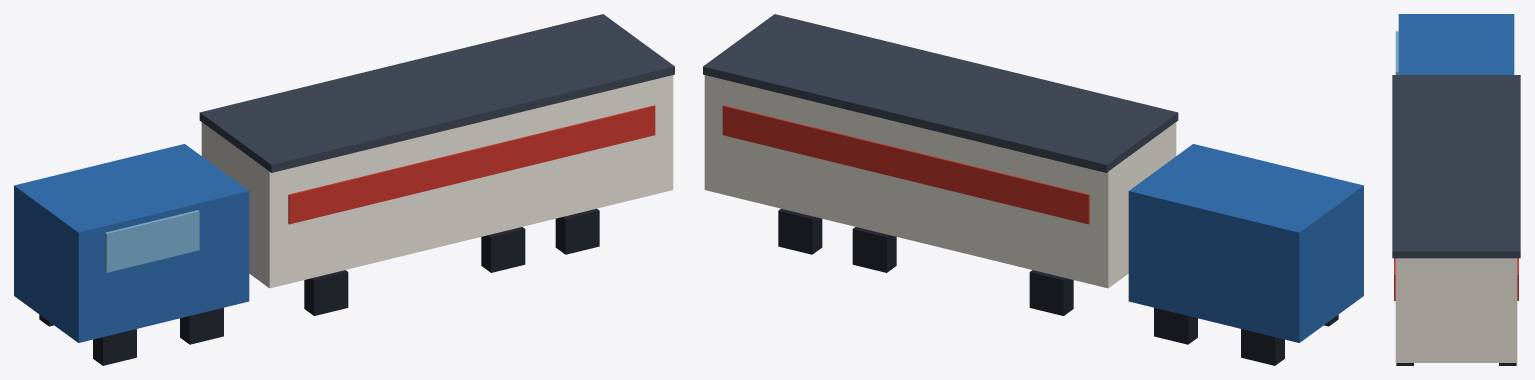
The model's file is truck.glb.
3 renders of one model, left to right at view 1: azimuth 30°, elevation 25°; view 2: azimuth 150°, elevation 25°; view 3: azimuth 270°, elevation 25°, orthographic. The views are drawn at different scales.
Parts seen in each view (by area): view 1: truck_white, truck_blue, truck_steelDark, truck_red, truck_black, truck_glass; view 2: truck_white, truck_blue, truck_steelDark, truck_red, truck_black; view 3: truck_steelDark, truck_white, truck_blue, truck_glass, truck_red.
Boxes of the visible parts, x1,y1,x2,y2 form: truck_white: (201,75,673,288); truck_blue: (14,144,249,342); truck_steelDark: (199,14,674,172); truck_red: (288,105,655,224); truck_black: (39,208,599,365); truck_glass: (105,210,199,272); truck_white: (704,75,1176,288); truck_blue: (1128,144,1363,342); truck_steelDark: (703,14,1178,172); truck_red: (722,105,1089,224); truck_black: (778,208,1338,365); truck_steelDark: (1392,75,1520,258); truck_white: (1395,258,1517,362); truck_blue: (1398,14,1514,74); truck_glass: (1395,31,1398,74); truck_red: (1394,258,1518,300).
Bounding box in the file's own units: 19.1 × 5.05 × 4.
